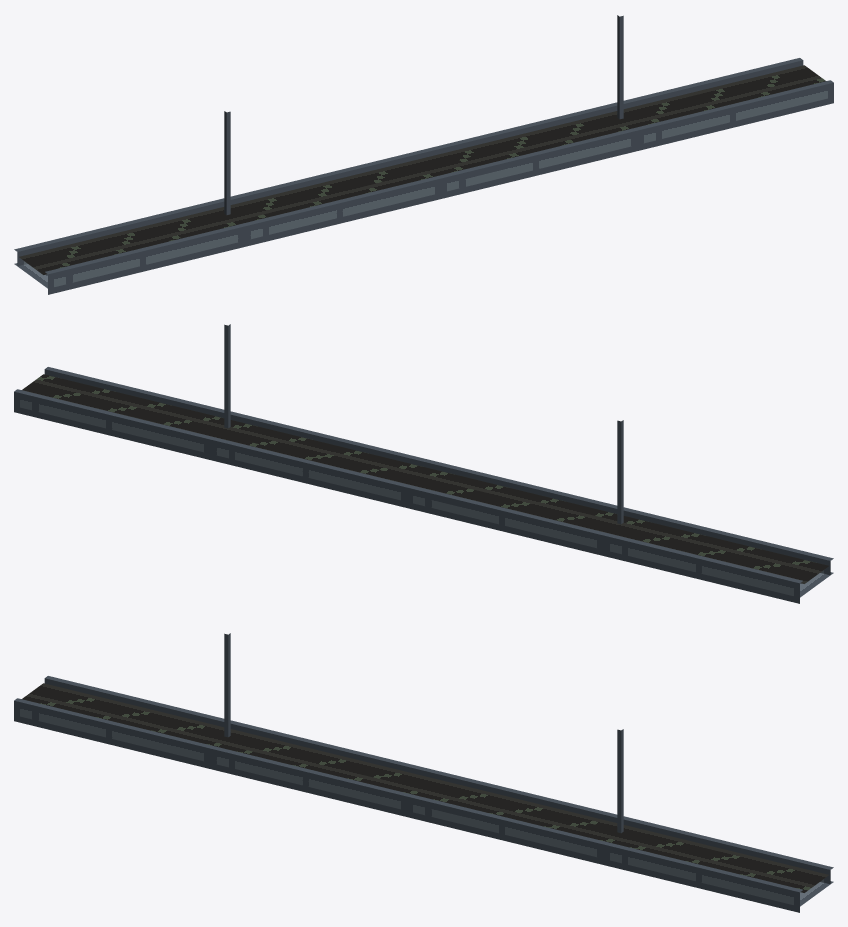
Rendered from cable_tray.glb.
3 views of the same model, one above another, from view 1: azimuth 30°, elevation 25°; view 2: azimuth 150°, elevation 25°; view 3: azimuth 330°, elevation 25° (orthographic).
Visible parts, largest first — view 1: cable_tray mesh; view 2: cable_tray mesh; view 3: cable_tray mesh.
Boxes of the visible parts, box(x1,y1,x2,y2) form: cable_tray mesh: box(14, 15, 833, 294); cable_tray mesh: box(14, 324, 833, 603); cable_tray mesh: box(14, 633, 833, 912).
Bounding box in the file's own units: 4 × 0.6 × 0.3.
Materials: 2 (2 with a texture image).
